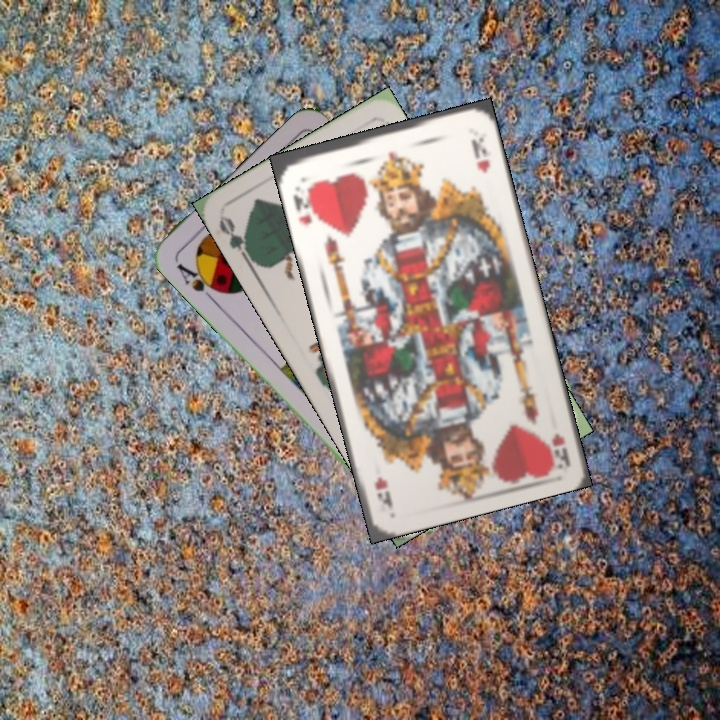GO: (215, 213, 257, 268)
HK: (289, 182, 322, 228), (545, 429, 573, 468)
SA: (172, 258, 225, 304)
